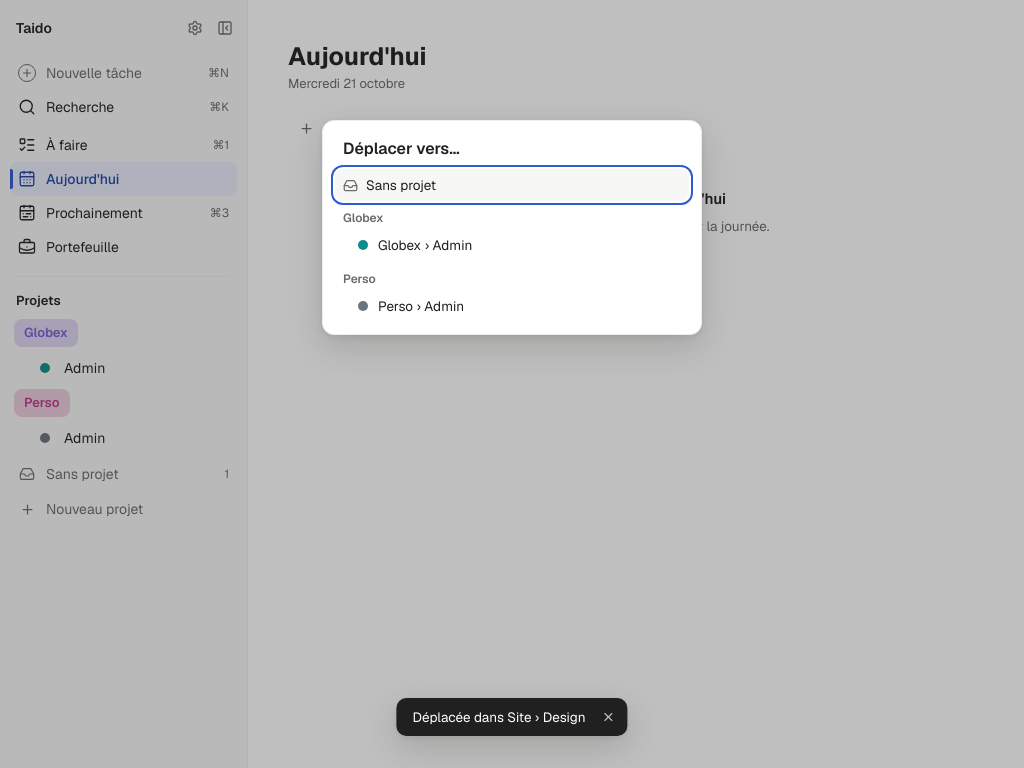
Scenario: Déplacer vers… dialog › names a group's project with its group, so two « Admin » stay distinct
This screenshot has width=1024, height=768.
expect the button "Globex › Admin" is shown: met, box left=335, top=229, right=689, bottom=262
Click the button "Perso › Admin" at point(421, 306), box left=335, top=290, right=689, bottom=322
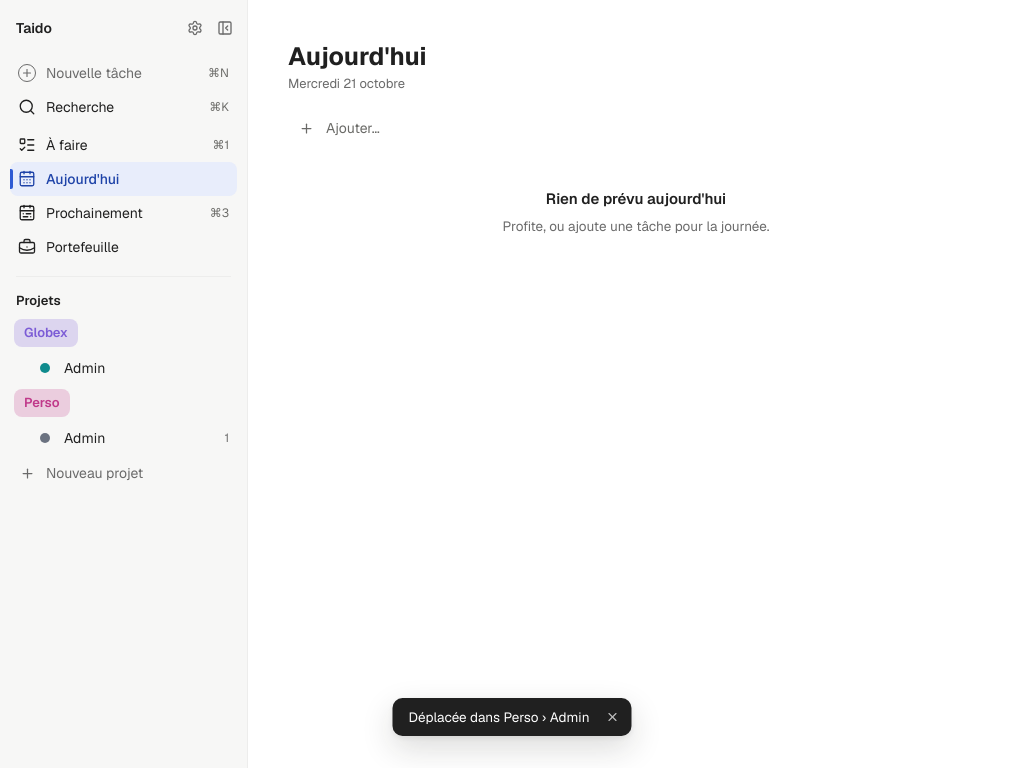
expect the text "Déplacée dans Perso › Admin" is shown: met, box left=408, top=707, right=590, bottom=727
